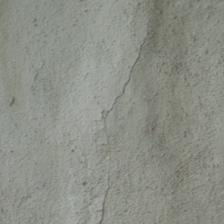Crack: (49, 18, 101, 203)
